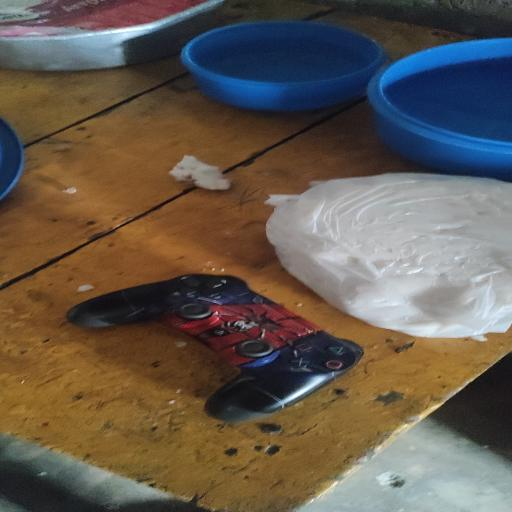ControlPlay4: (67, 274, 363, 423)
